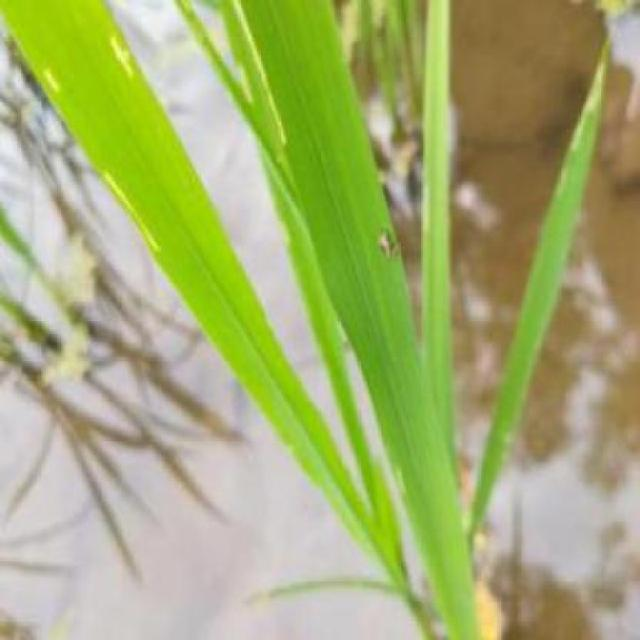rice-bug: (377, 224, 401, 262)
